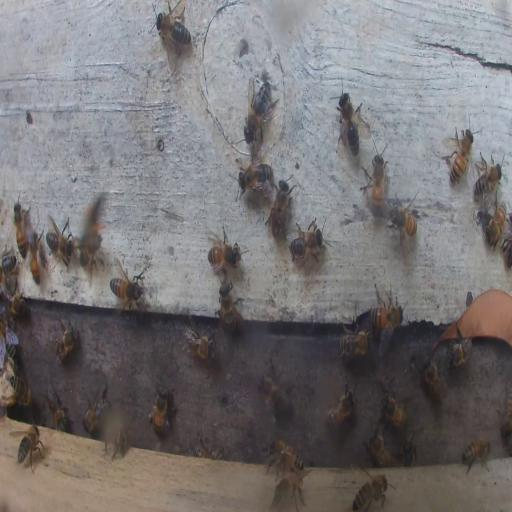bee: (244, 81, 278, 140), (361, 145, 387, 217), (444, 125, 475, 184), (266, 176, 294, 241), (386, 194, 419, 247), (368, 294, 404, 342), (336, 88, 361, 156), (156, 3, 191, 50), (289, 218, 324, 264), (12, 422, 42, 472), (324, 383, 355, 431), (182, 319, 216, 362), (258, 368, 289, 414), (208, 230, 240, 274), (109, 272, 145, 311), (46, 215, 73, 267), (82, 384, 110, 434), (472, 150, 502, 196), (354, 474, 392, 508), (262, 440, 300, 474), (365, 423, 393, 468), (82, 194, 106, 246), (460, 436, 491, 474), (239, 158, 273, 192), (381, 388, 407, 431), (219, 279, 240, 332), (420, 354, 444, 400), (272, 472, 305, 504), (12, 197, 30, 255), (150, 386, 170, 437), (338, 330, 372, 360), (55, 318, 78, 362), (497, 378, 512, 442), (47, 382, 67, 429), (486, 202, 507, 246), (27, 234, 44, 284), (6, 372, 31, 405), (446, 337, 473, 367), (76, 234, 99, 267), (105, 428, 127, 460), (2, 249, 18, 290), (0, 314, 18, 346), (7, 291, 28, 318), (402, 434, 416, 467), (193, 440, 221, 456), (502, 232, 512, 266), (476, 212, 486, 233)
